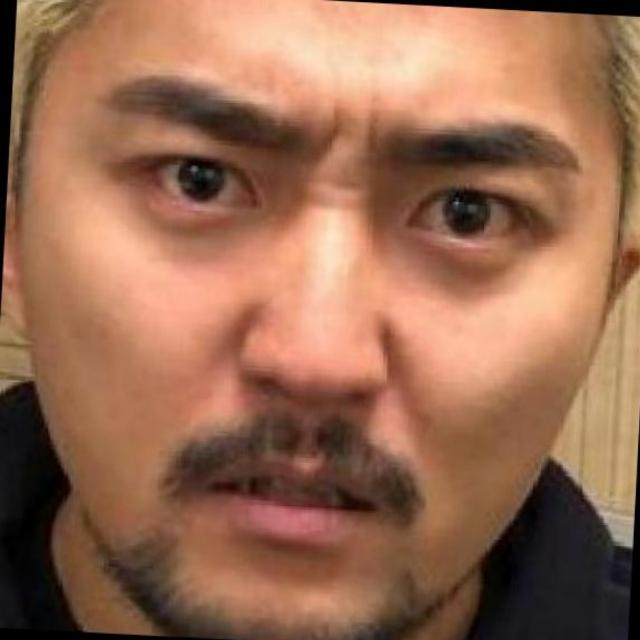Angry: (22, 36, 610, 604)
